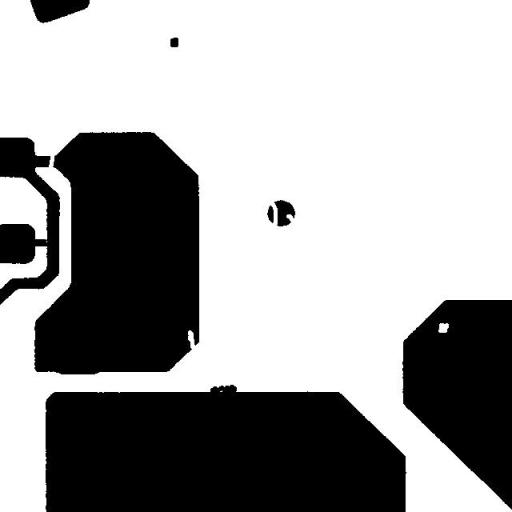copper: (162, 30, 186, 54)
mousebite: (180, 322, 203, 356), (278, 206, 302, 232)
open: (260, 193, 285, 236), (41, 143, 62, 177)
pin-hole: (430, 315, 456, 340)
short: (22, 231, 56, 254)
spur: (202, 377, 244, 402)
